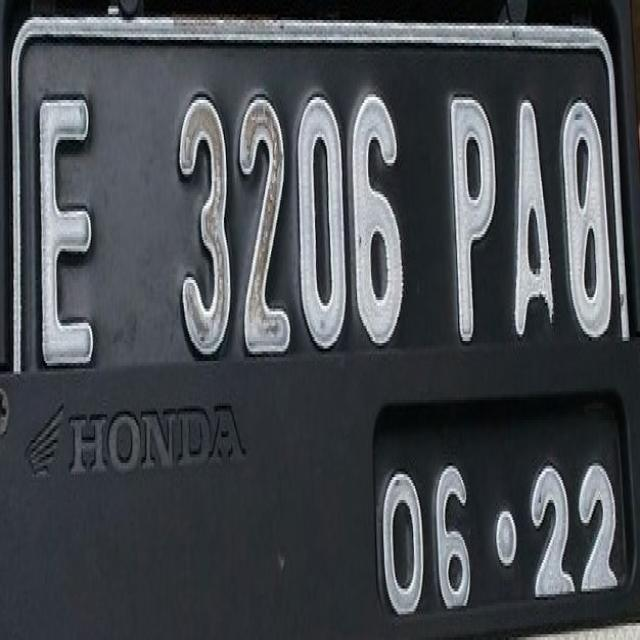plate: (8, 14, 638, 612)
